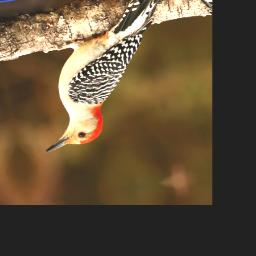Woodpecker: (17, 0, 200, 153)
